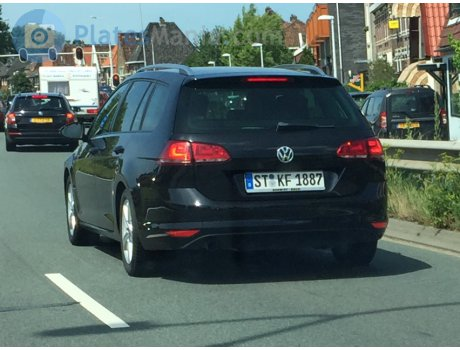License Plates: (253, 173, 323, 187)
